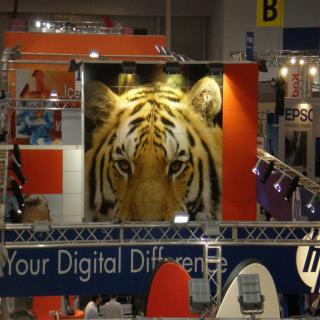Tiger: (83, 77, 224, 222)
